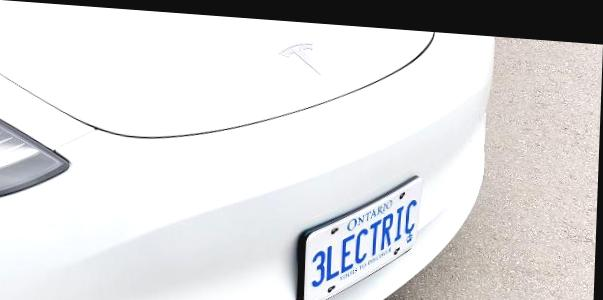License_Plate: (290, 193, 416, 290)
